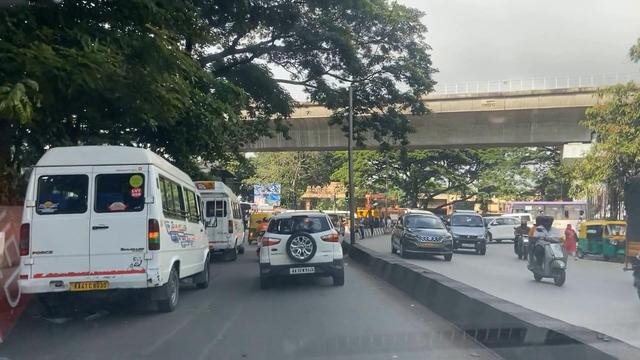HMV: (28, 153, 212, 307), (200, 179, 248, 259)
LMV: (262, 215, 348, 291)
